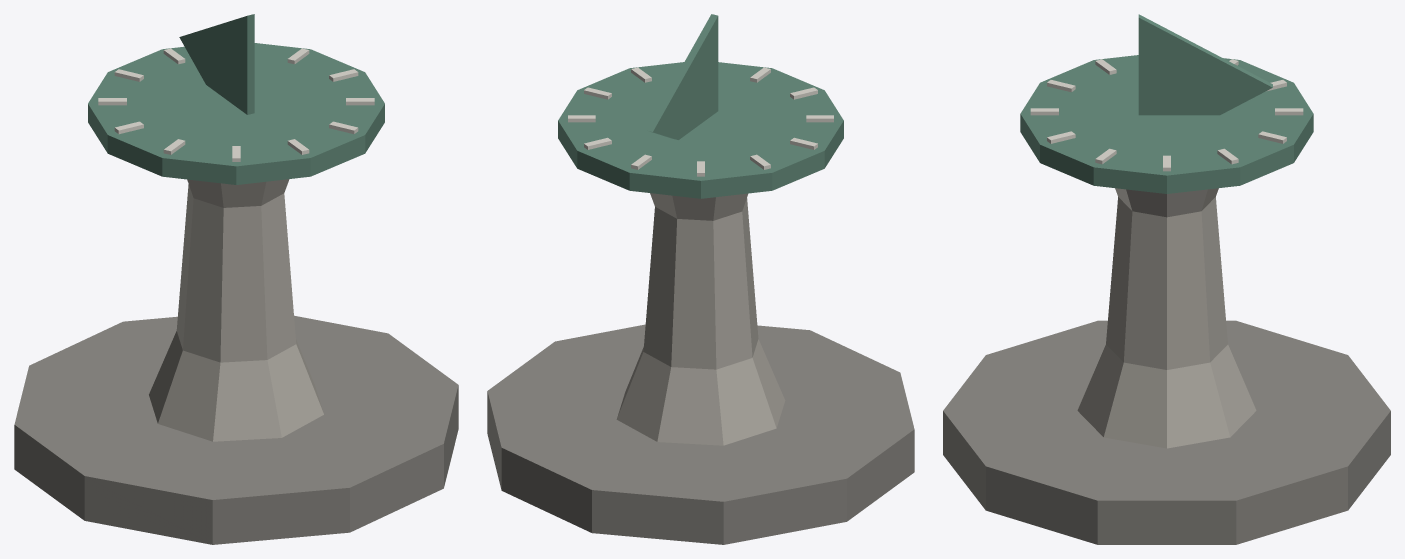
Rendered from sundial.glb.
3 renders of one model, left to right at view 1: azimuth 30°, elevation 25°; view 2: azimuth 150°, elevation 25°; view 3: azimuth 270°, elevation 25°, orthographic. The views are drawn at different scales.
Visible parts, largest first — view 1: sundial; view 2: sundial; view 3: sundial.
Boxes of the visible parts, x1,y1,x2,y2 form: sundial: (14,14,458,544); sundial: (487,14,914,544); sundial: (943,14,1390,544).
Bounding box in the file's own units: 1.05 × 1.19 × 1.1.
